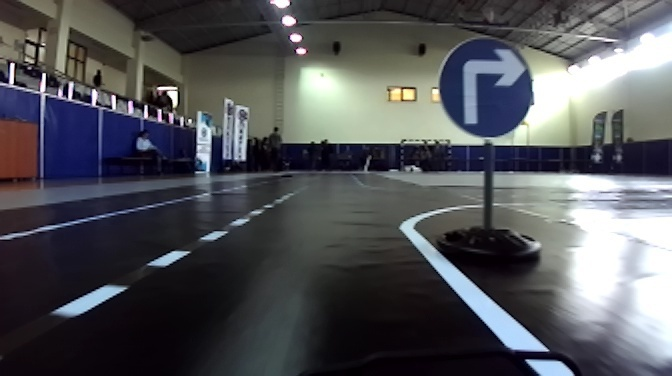saga_donus: (436, 36, 533, 137)
